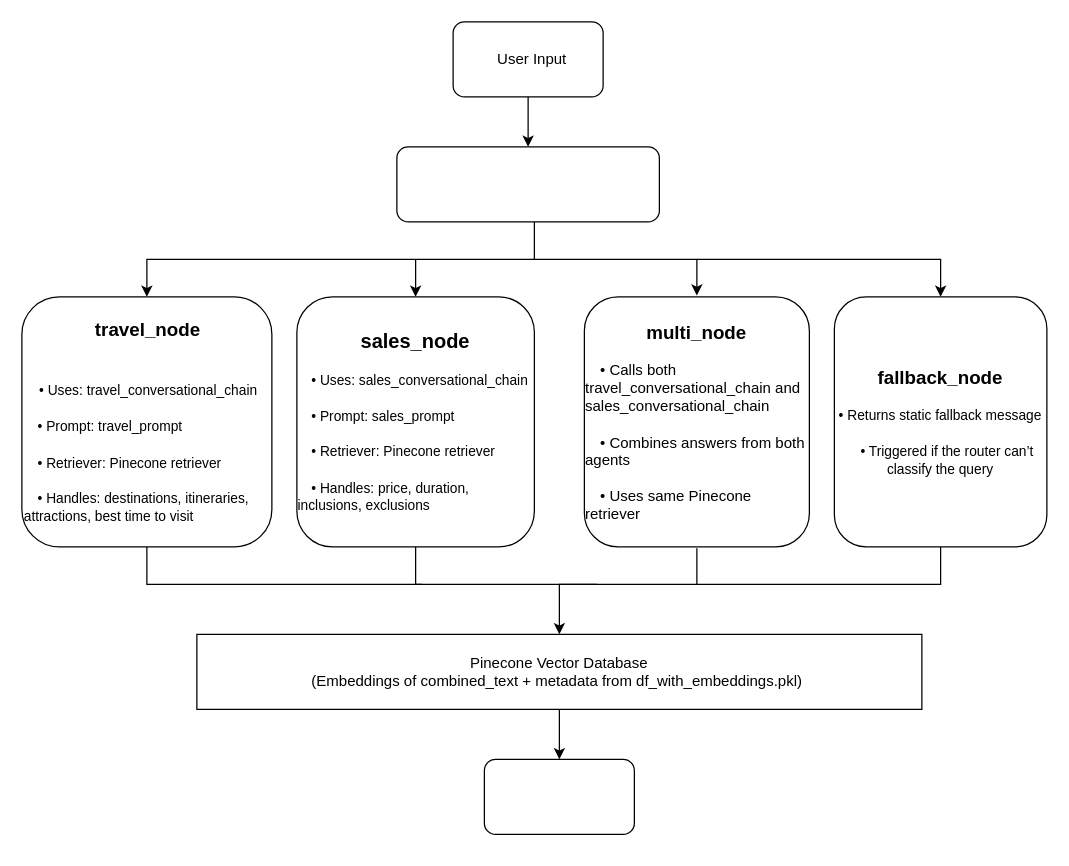
This 1069x866 diagram has some shape labels left out. The centre of each missing label's shape, as x and y in pixels:
"Final Answer" belongs at point 558,796.
"Router (LLMChain) travel / sales / multi or fallback" belongs at point 527,184.
